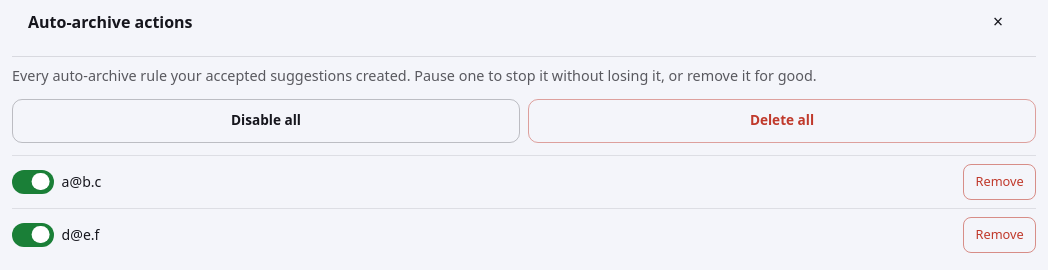
AutomationActionsPanel › disable-all pauses every rule, then the label flips to enable-all
This screenshot has width=1048, height=270.
Click the button "Disable all" at (266, 121), box [12,99,520,143]
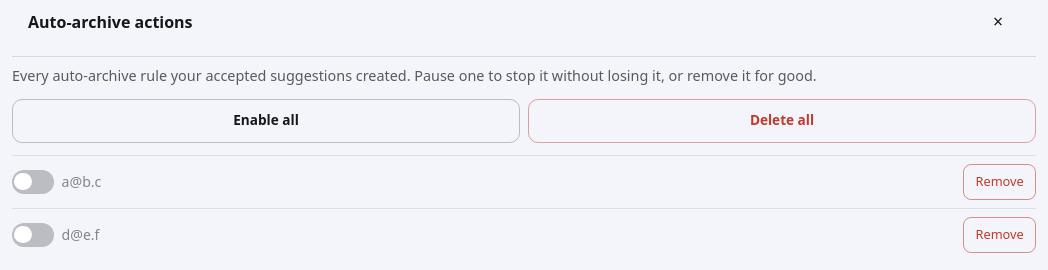
Expected: the button "Enable all" is shown, [12,99,520,143]
